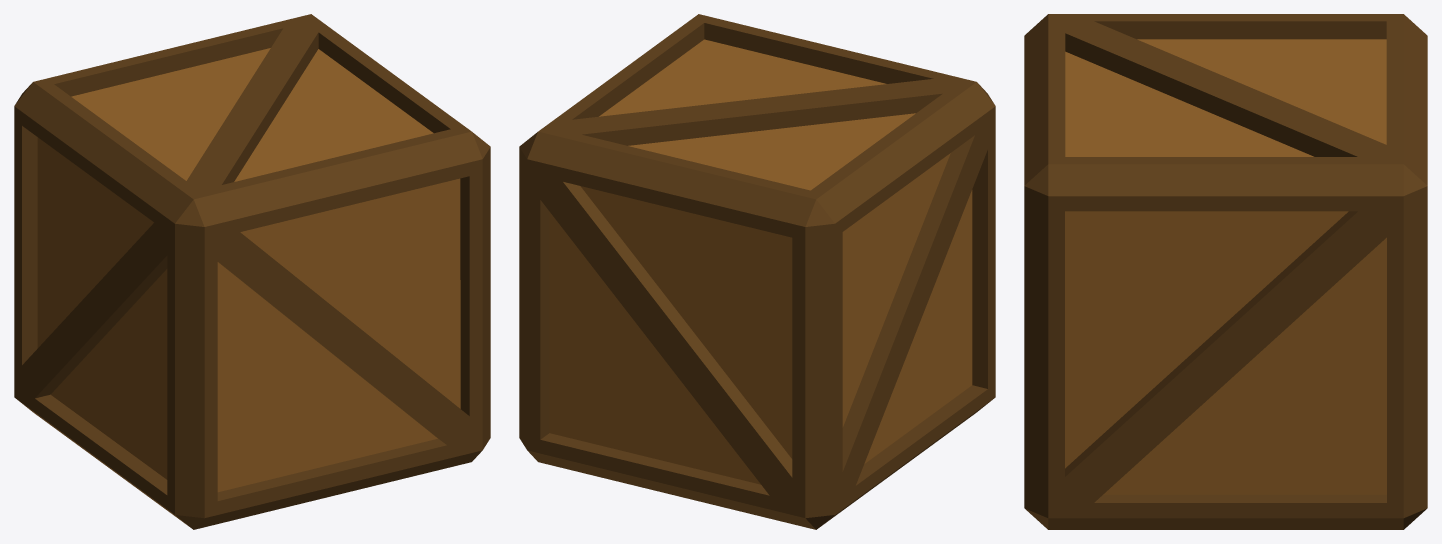
Rendered from 002_Crate.fbx.
3 views of the same model, side by side, from view 1: azimuth 30°, elevation 25°; view 2: azimuth 150°, elevation 25°; view 3: azimuth 270°, elevation 25° (orthographic). The views are drawn at different scales.
Visible parts, largest first — view 1: Crate; view 2: Crate; view 3: Crate.
Boxes of the visible parts, x1=… form: Crate: x1=14, y1=14, x2=490, y2=529; Crate: x1=519, y1=14, x2=995, y2=529; Crate: x1=1024, y1=14, x2=1427, y2=529.
Bounding box in the file's own units: 80 × 80 × 80.
